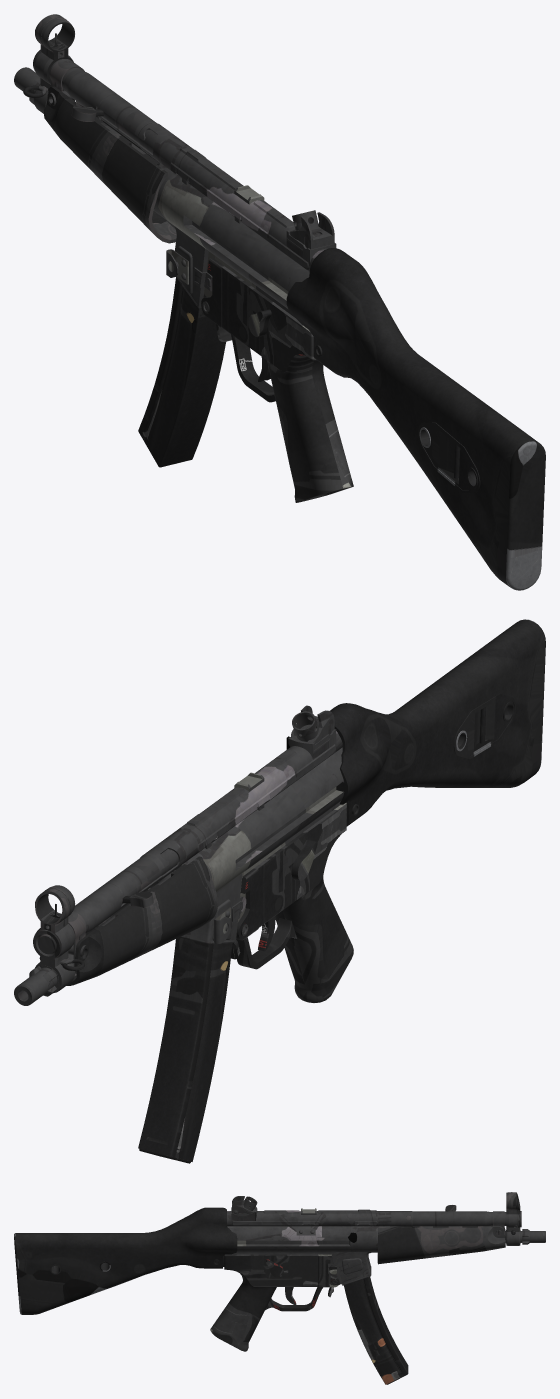
3 renders of one model, top to bottom at view 1: azimuth 30°, elevation 25°; view 2: azimuth 150°, elevation 25°; view 3: azimuth 270°, elevation 25°, orthographic. The views are drawn at different scales.
Bounding box in the file's own units: 0.0672 × 0.3113 × 0.7978.
Materials: 5 (5 with a texture image).
